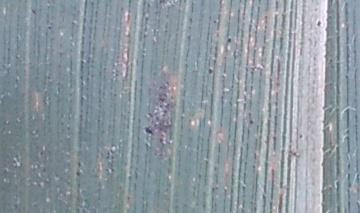tarspot: (143, 125, 153, 136), (28, 6, 38, 16), (315, 19, 323, 28), (76, 159, 83, 169), (297, 132, 305, 140), (74, 169, 82, 177), (226, 36, 233, 44), (312, 5, 319, 13), (207, 66, 213, 75), (248, 117, 254, 126), (46, 24, 53, 31), (38, 149, 44, 156), (211, 18, 217, 25)
